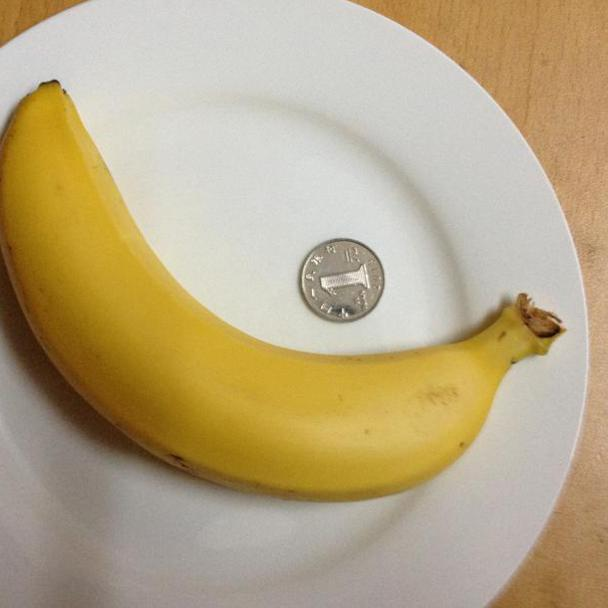banana: (5, 75, 558, 505)
